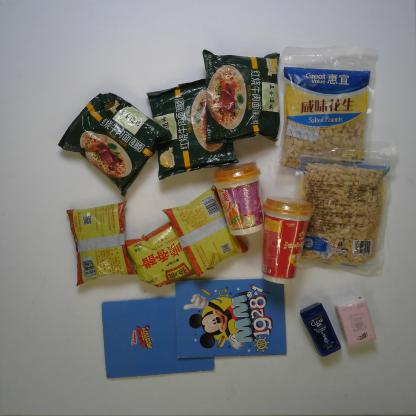Dried Fruit: (286, 142, 398, 277), (274, 42, 383, 175)
Instant Drink: (259, 194, 319, 287), (210, 157, 266, 236)
Instant Noodles: (54, 92, 164, 188), (145, 79, 244, 179), (197, 45, 282, 153)
Personal Hygiene: (298, 300, 343, 360)
Seasoner: (161, 183, 248, 280), (62, 196, 138, 286), (123, 215, 205, 288)
Stationery: (97, 294, 224, 381), (171, 273, 290, 359)
Tissue: (332, 295, 381, 347)
